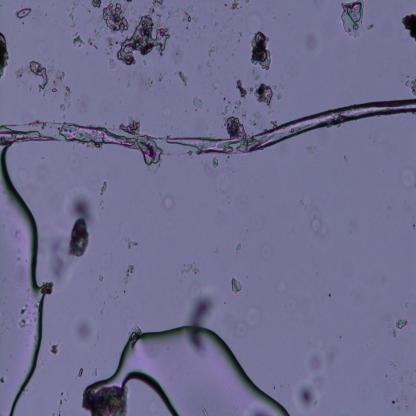Air bubble: (120, 320, 292, 415), (0, 151, 42, 416), (17, 4, 34, 21)
Background material: (113, 16, 171, 64), (204, 147, 244, 207), (43, 224, 73, 300), (293, 350, 327, 415), (85, 263, 121, 318), (302, 195, 333, 246), (340, 1, 375, 43), (88, 382, 131, 416), (50, 67, 76, 122), (189, 290, 219, 327), (68, 212, 91, 260), (249, 29, 274, 72), (176, 2, 206, 36), (72, 317, 100, 352), (101, 1, 131, 32), (232, 304, 258, 336), (173, 255, 201, 283), (27, 59, 49, 94), (48, 385, 70, 416), (15, 304, 34, 338), (224, 115, 250, 139), (399, 162, 416, 195), (398, 12, 416, 43), (0, 31, 11, 81), (176, 59, 192, 90), (390, 389, 411, 412), (254, 83, 275, 106), (121, 261, 136, 290), (100, 30, 117, 55), (148, 0, 166, 21), (66, 1, 78, 30), (10, 62, 26, 83), (162, 188, 176, 212), (86, 28, 101, 50), (235, 78, 250, 99), (306, 31, 320, 52), (228, 276, 245, 293), (404, 76, 416, 95), (52, 340, 64, 358), (360, 384, 371, 402), (192, 95, 205, 110), (221, 103, 233, 119), (385, 358, 401, 370), (227, 1, 244, 12), (88, 364, 100, 378), (395, 319, 409, 331), (347, 217, 356, 233), (72, 36, 84, 47), (107, 57, 117, 70), (236, 240, 245, 254), (92, 0, 103, 11), (78, 367, 86, 379), (275, 90, 283, 101), (0, 374, 7, 384), (397, 375, 404, 384)
Cotton: (0, 97, 416, 156)
